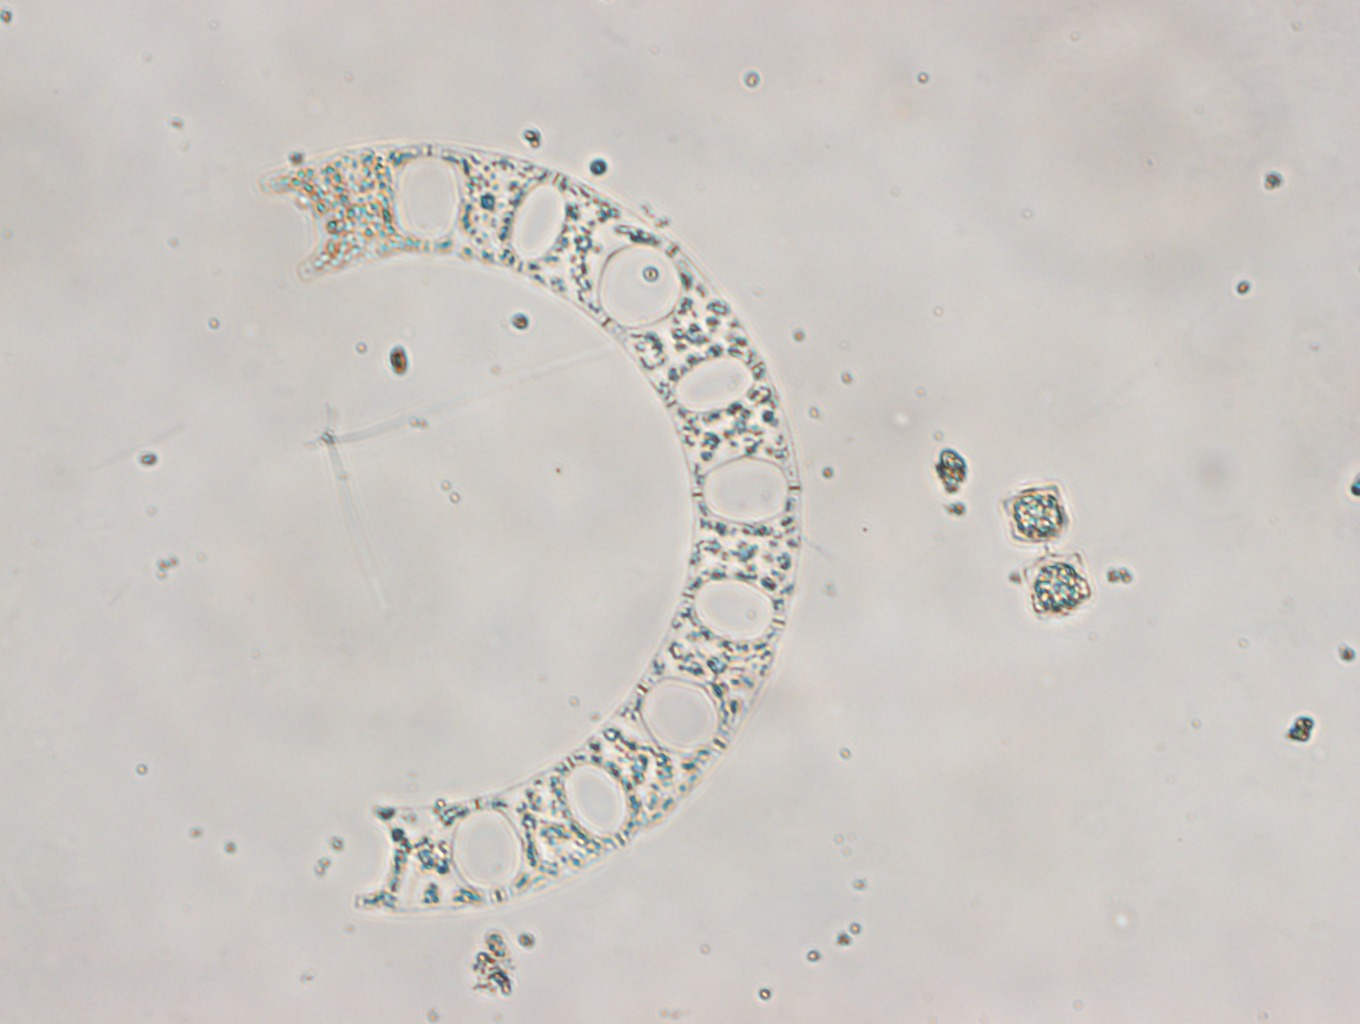detonula pumila: (1001, 483, 1094, 622)
eucampia: (259, 139, 803, 914)
